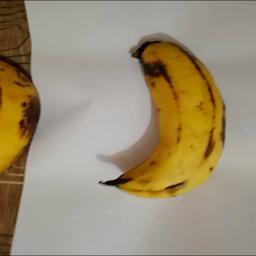Banana Semifresh: (97, 41, 226, 198)
